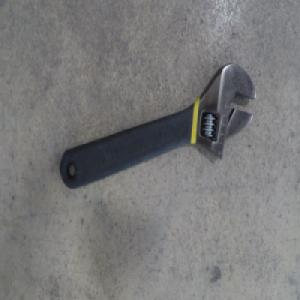AdjustableWrench: (60, 62, 256, 193)
